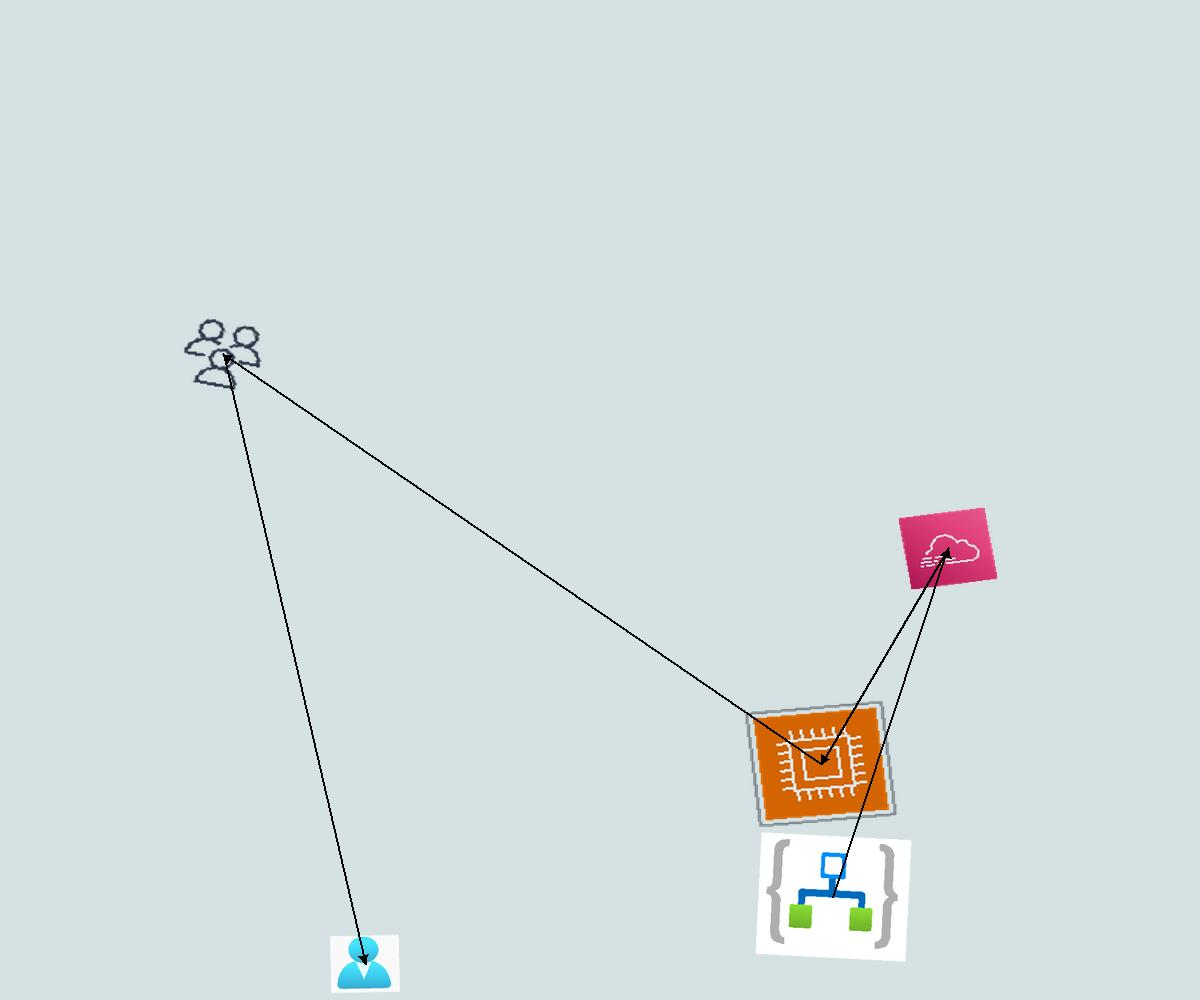AWS-Category_Compute: (744, 700, 898, 828)
AWS-CloudTrail: (898, 507, 998, 590)
AWS-Res_Users: (172, 312, 274, 397)
Azure_integration-204-Logic-Apps: (755, 832, 912, 962)
Azure_users: (330, 935, 400, 993)
